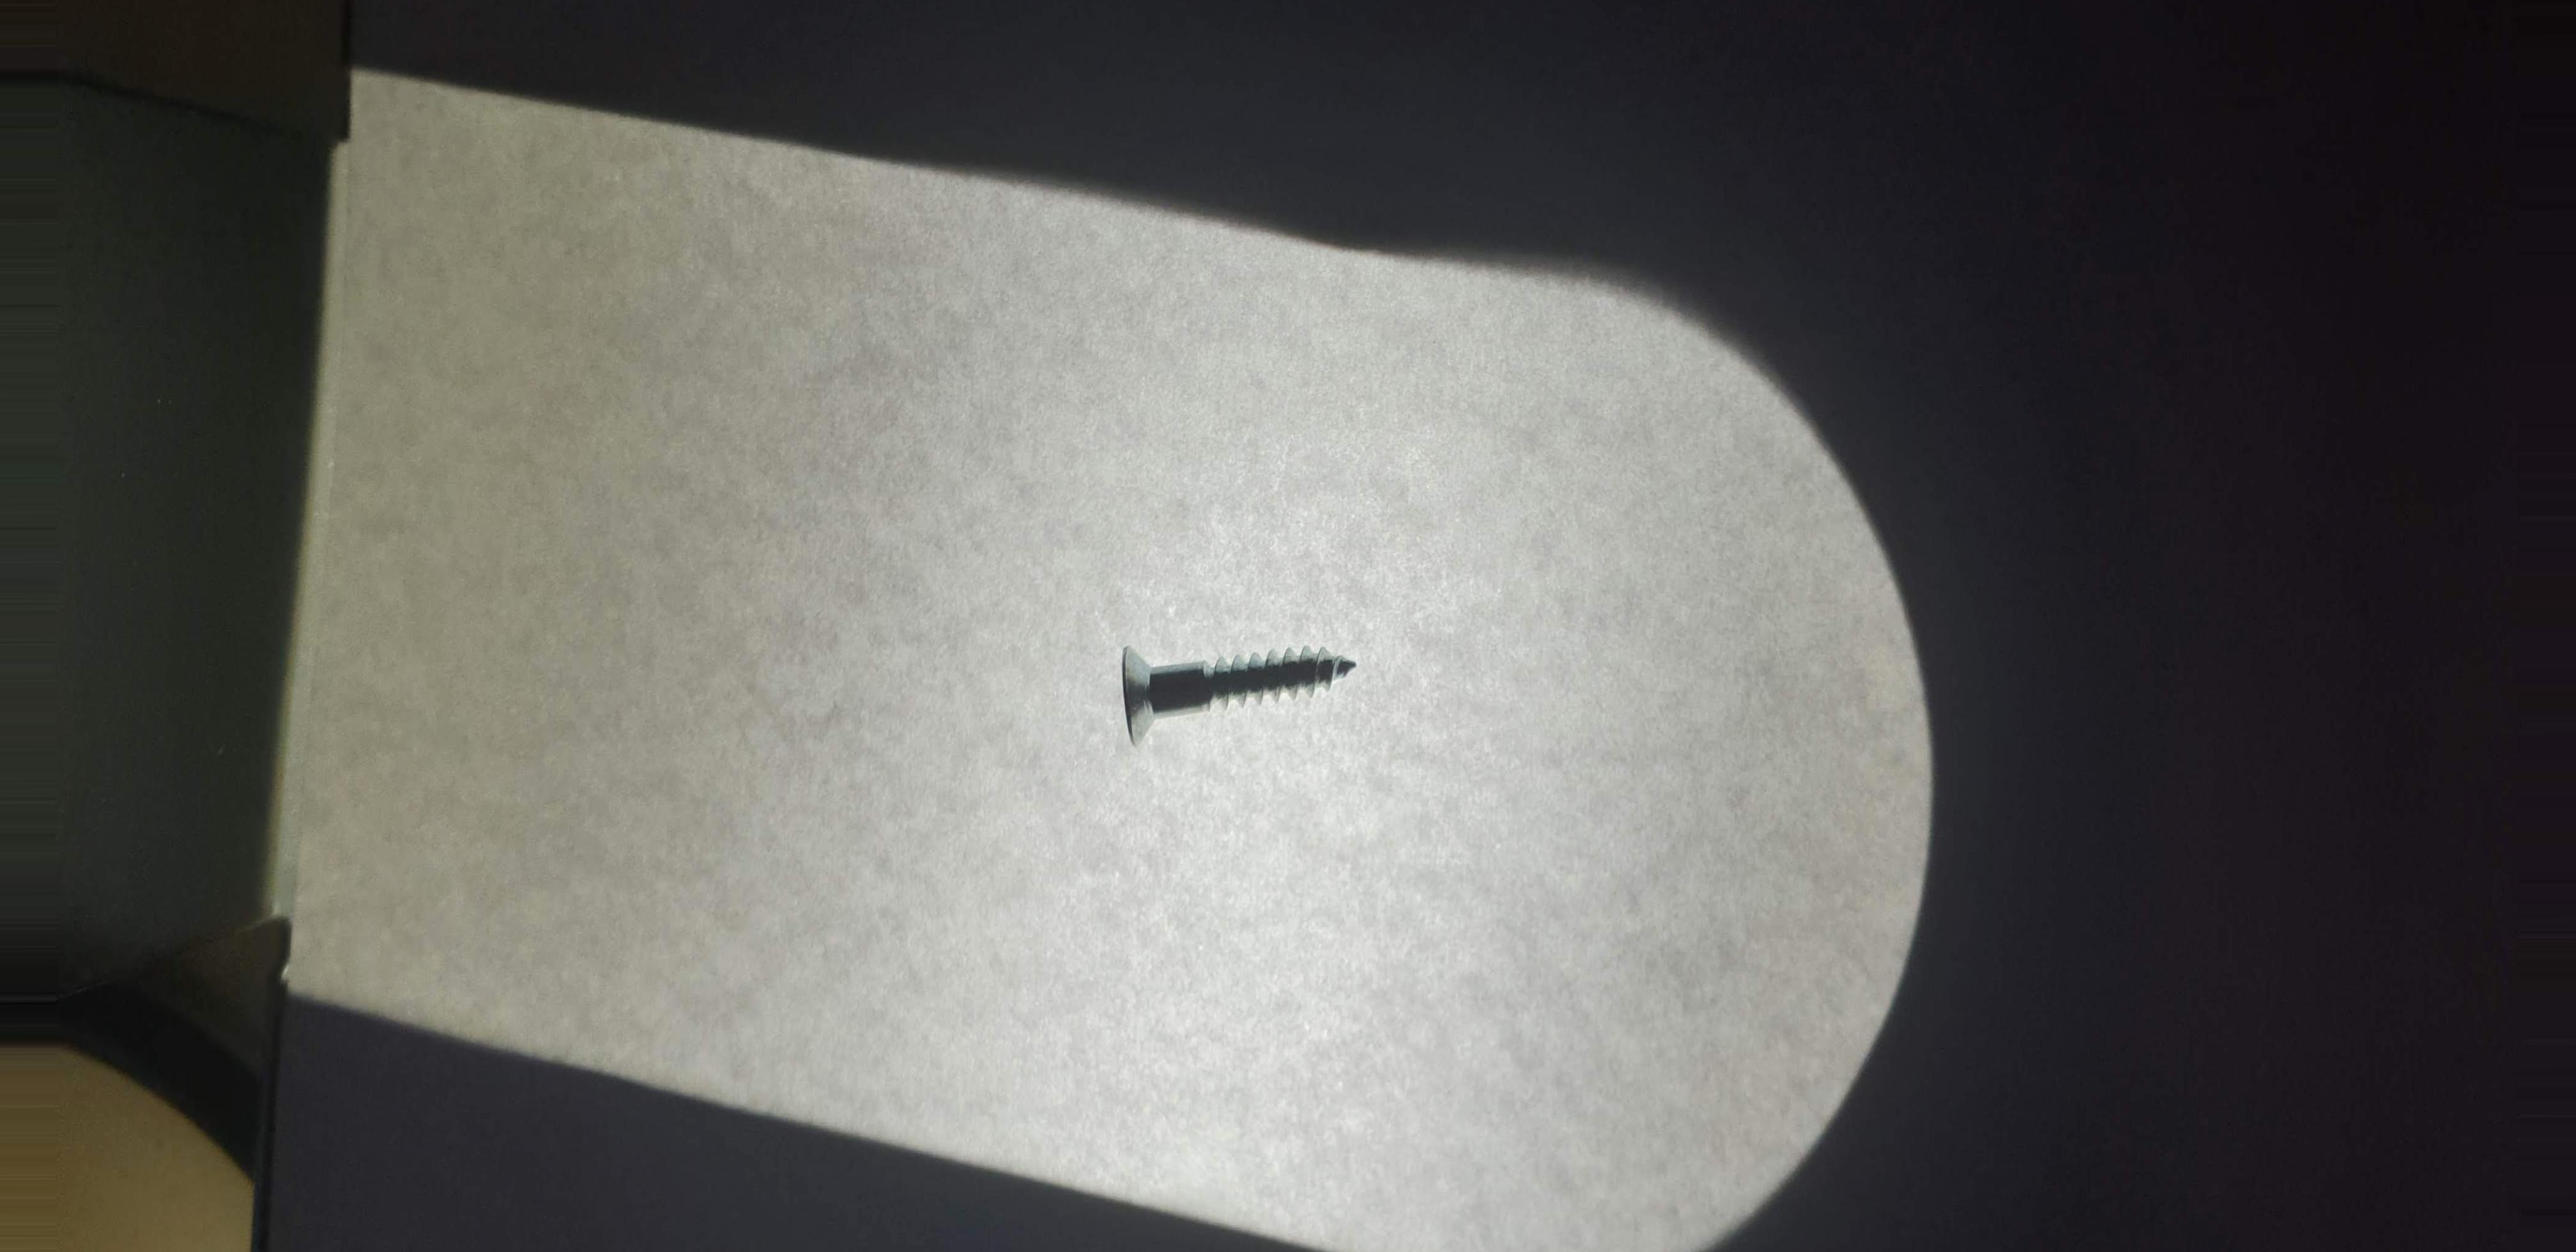S005: (1092, 614, 1396, 769)
